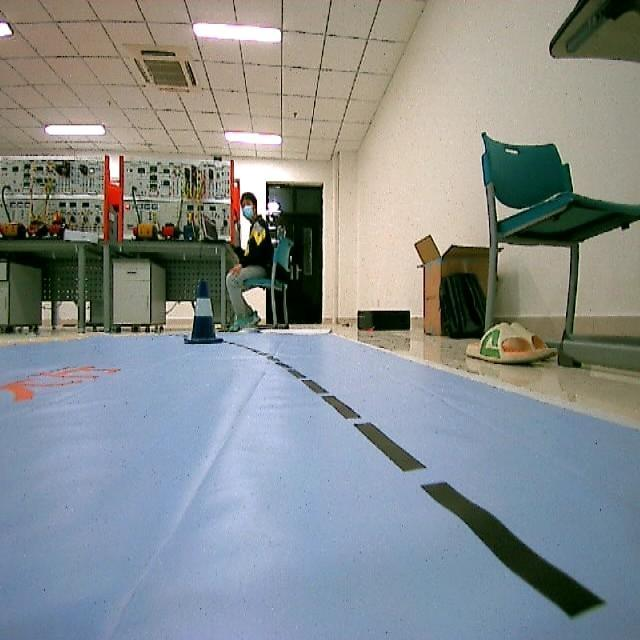obstacle: (183, 276, 222, 350)
